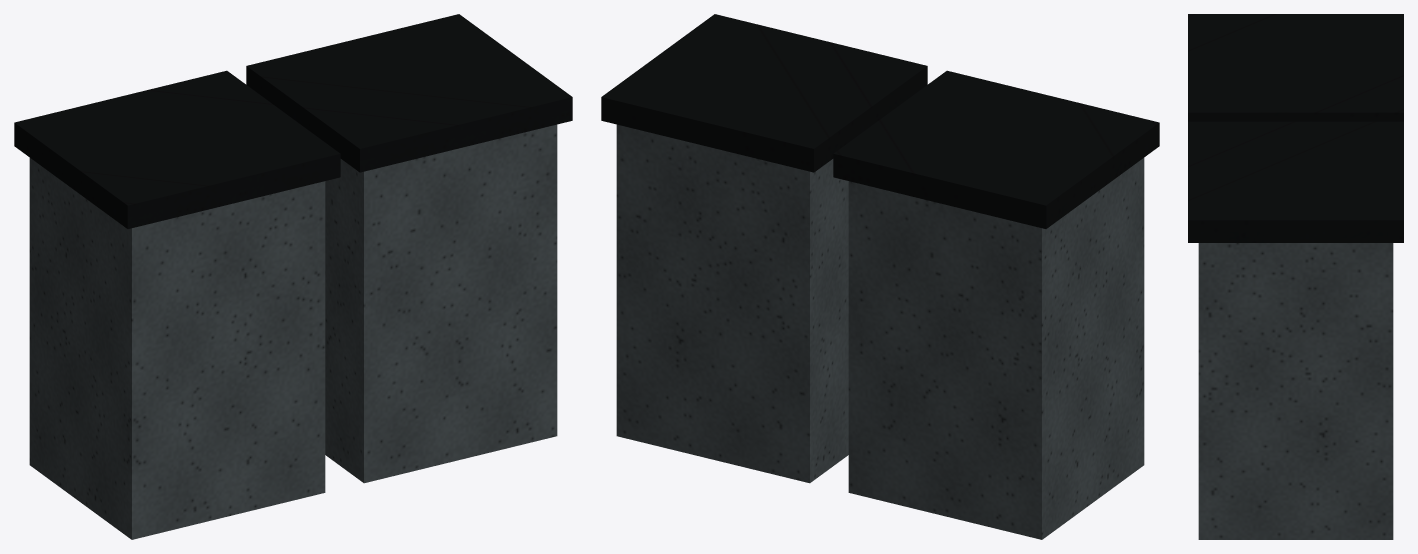
The model's file is PROP-CACC5298FEF3_lod2.glb.
The picture shows the model from 3 angles, left to right: view 1: azimuth 30°, elevation 25°; view 2: azimuth 150°, elevation 25°; view 3: azimuth 270°, elevation 25°; orthographic projection. The views are drawn at different scales.
Visible parts, largest first — view 1: waste_container.005, bin_lid.005; view 2: waste_container.005, bin_lid.005; view 3: waste_container.005, bin_lid.005.
Boxes of the visible parts, x1,y1,x2,y2 form: waste_container.005: (29,124,557,539); bin_lid.005: (14,14,572,228); waste_container.005: (616,124,1144,539); bin_lid.005: (601,14,1159,228); waste_container.005: (1198,243,1393,539); bin_lid.005: (1188,14,1403,242).
Size of the model in its own units: 1.38 by 1.01 by 0.61.
2 materials, 2 textured.
